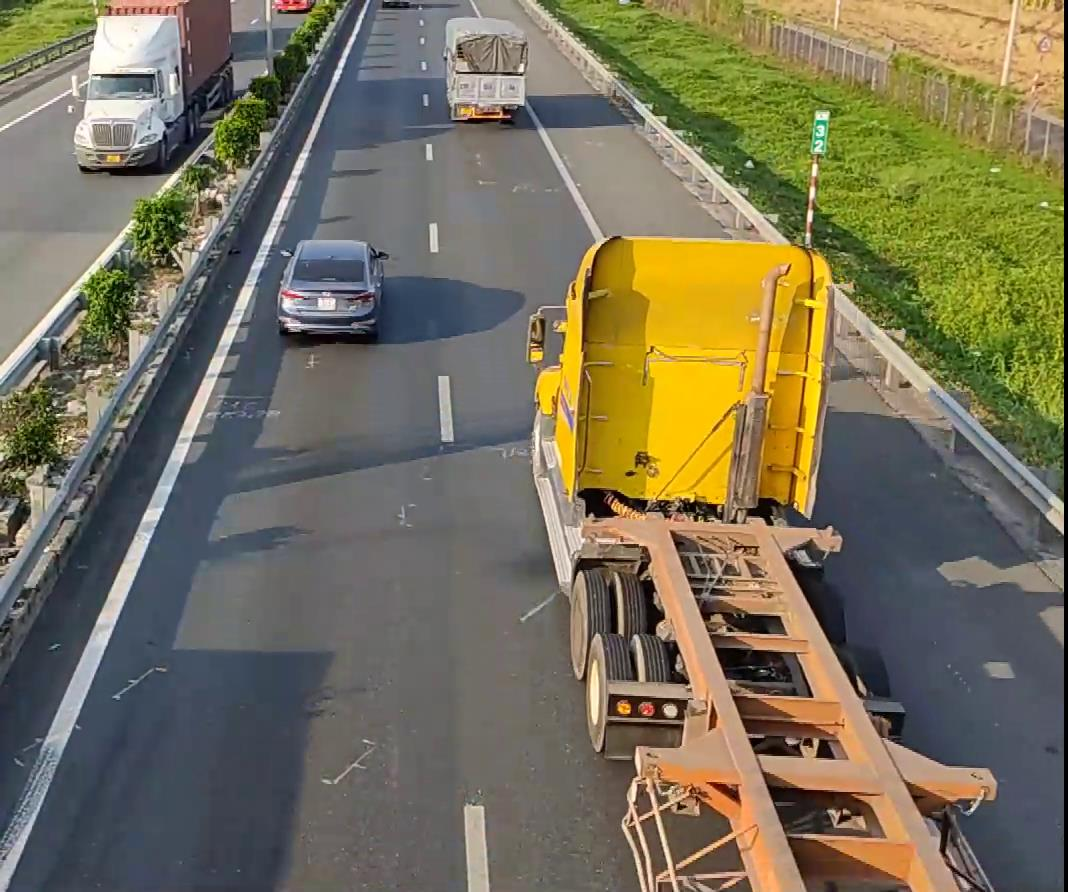car: (275, 238, 387, 340)
container: (524, 229, 980, 888), (70, 0, 232, 169)
truck: (442, 15, 528, 122)
